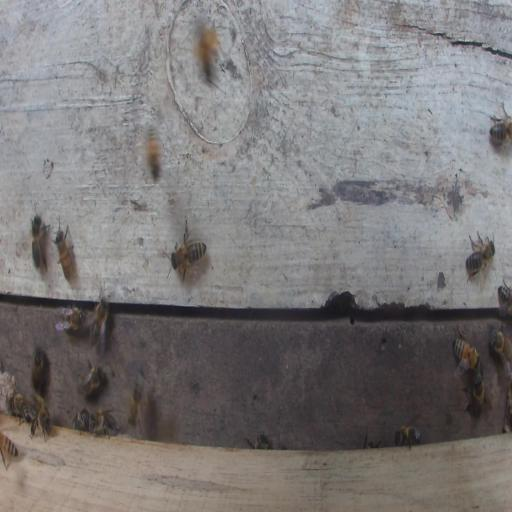nonpollenbee: (465, 230, 495, 289), (88, 287, 111, 357), (54, 220, 77, 287), (30, 212, 51, 274), (77, 360, 111, 397), (452, 329, 480, 373), (171, 241, 207, 271), (128, 371, 146, 430), (489, 101, 512, 146), (30, 394, 52, 441), (490, 329, 512, 372), (54, 307, 88, 332), (147, 127, 163, 179), (1, 431, 19, 472), (32, 346, 47, 393), (394, 425, 421, 449), (91, 408, 117, 432), (10, 393, 30, 422), (497, 278, 511, 317), (473, 374, 484, 417), (75, 407, 90, 434), (254, 434, 268, 450)
pollenbee: (189, 12, 218, 84)
